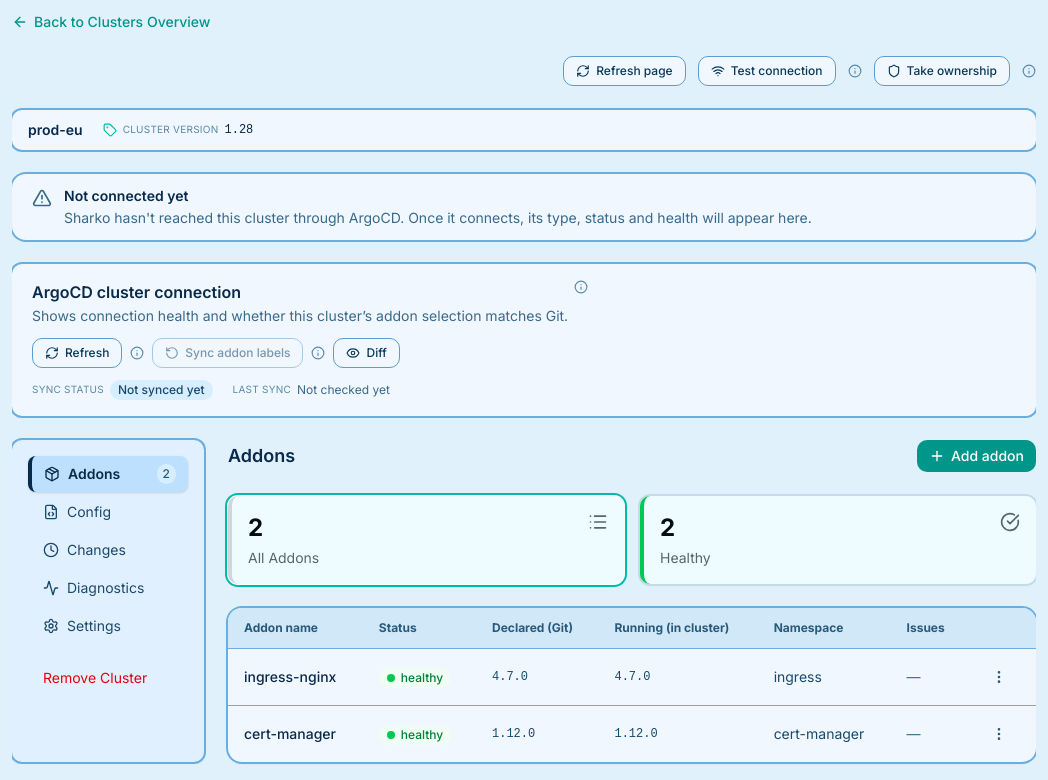
Scenario: ClusterDetail - V3-AM1 (one list + discoverable remove + "Add addon" LW-22) › each enabled comparison-table row has a "Remove" control (in the row-actions kebab)
Expected: the link "ingress-nginx" is shown, [244,667,336,687]
// Opening a kebab reveals a destructive "Remove" menuitem.
Click the button named "actions for ingress-nginx" at [999, 677], box [983,661,1015,693]
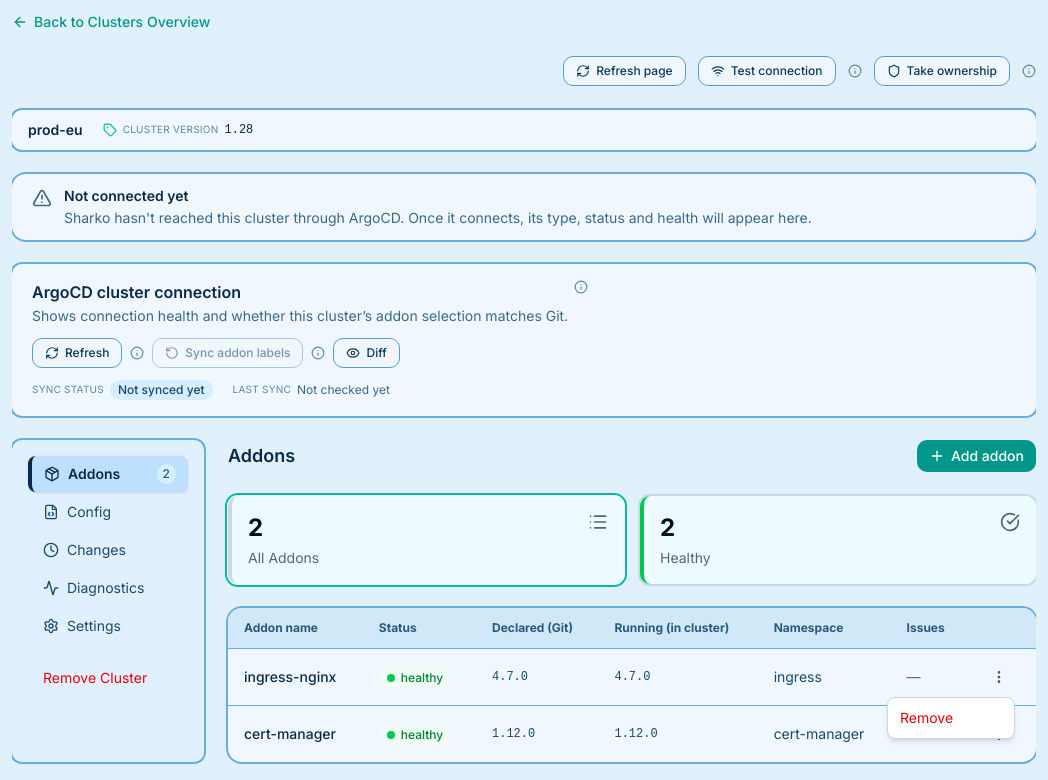
Now the menu item "Remove" is shown, box [900,709,953,726]
